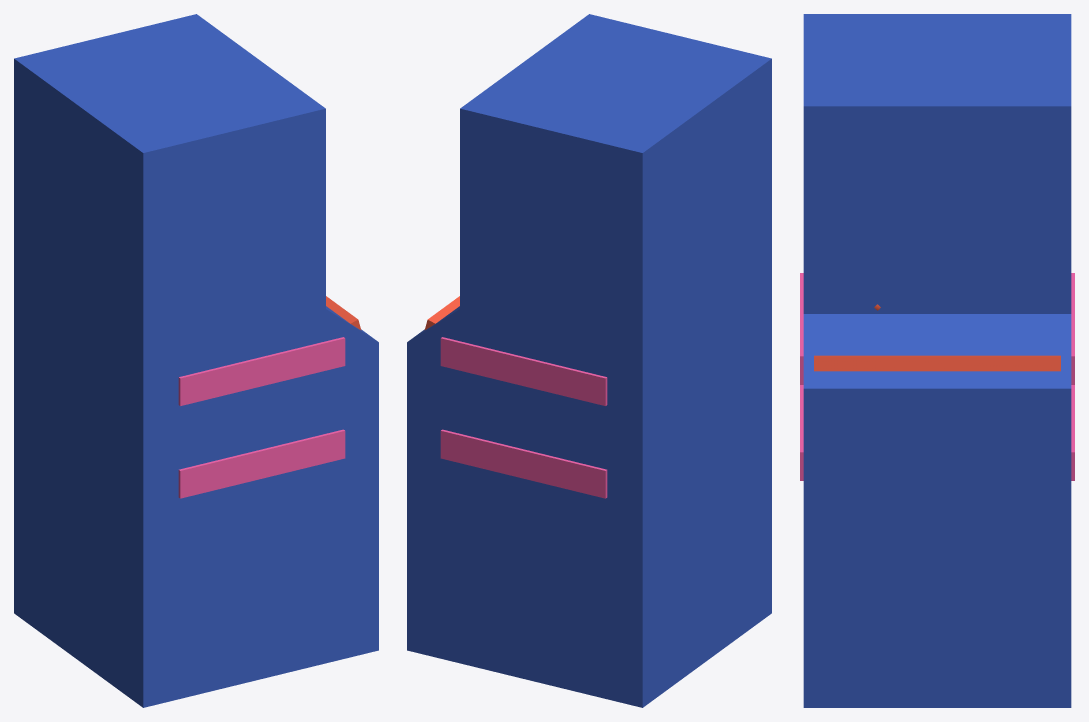
Rendered from arcade_cabinet.glb.
The picture shows the model from 3 angles, left to right: view 1: azimuth 30°, elevation 25°; view 2: azimuth 150°, elevation 25°; view 3: azimuth 270°, elevation 25°; orthographic projection. The views are drawn at different scales.
Bounding box in the file's own units: 0.8 × 1.8 × 0.78.
